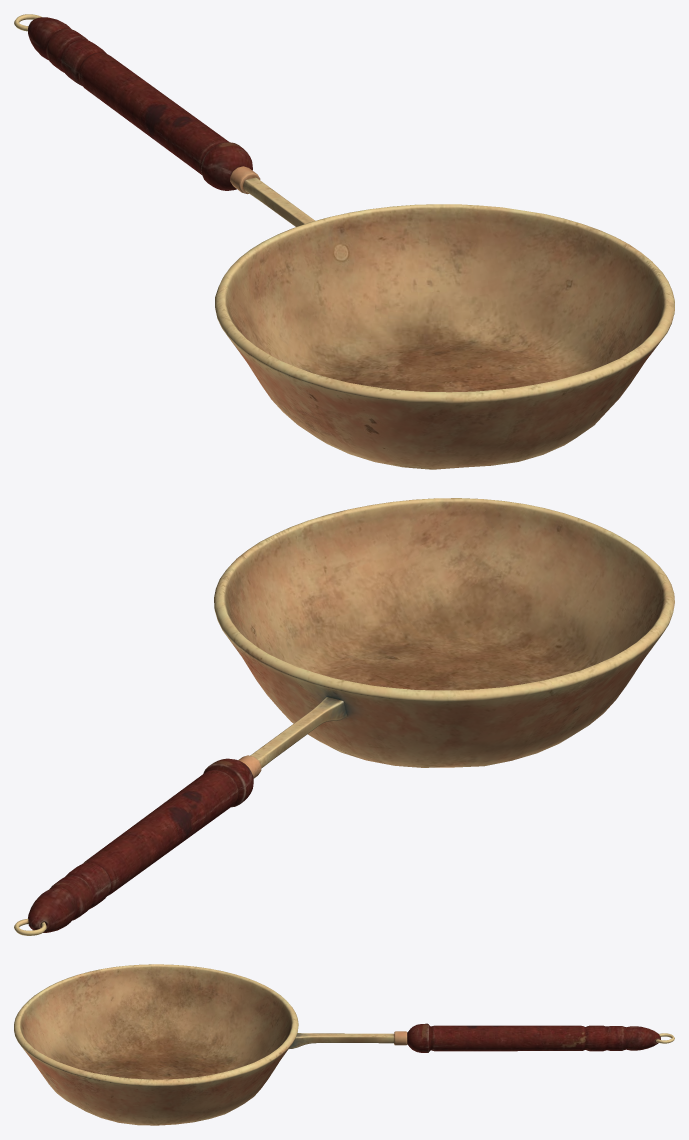
File: poele.glb
3 renders of one model, top to bottom at view 1: azimuth 30°, elevation 25°; view 2: azimuth 150°, elevation 25°; view 3: azimuth 270°, elevation 25°, orthographic. The views are drawn at different scales.
Visible parts, largest first — view 1: brass_pan_01; view 2: brass_pan_01; view 3: brass_pan_01.
Part boxes in pixels (x1=…): brass_pan_01: x1=14, y1=14, x2=674, y2=469; brass_pan_01: x1=14, y1=498, x2=674, y2=935; brass_pan_01: x1=14, y1=964, x2=674, y2=1125.
Bounding box in the file's own units: 0.1913 × 0.0525 × 0.4497.
1 material, 1 textured.
